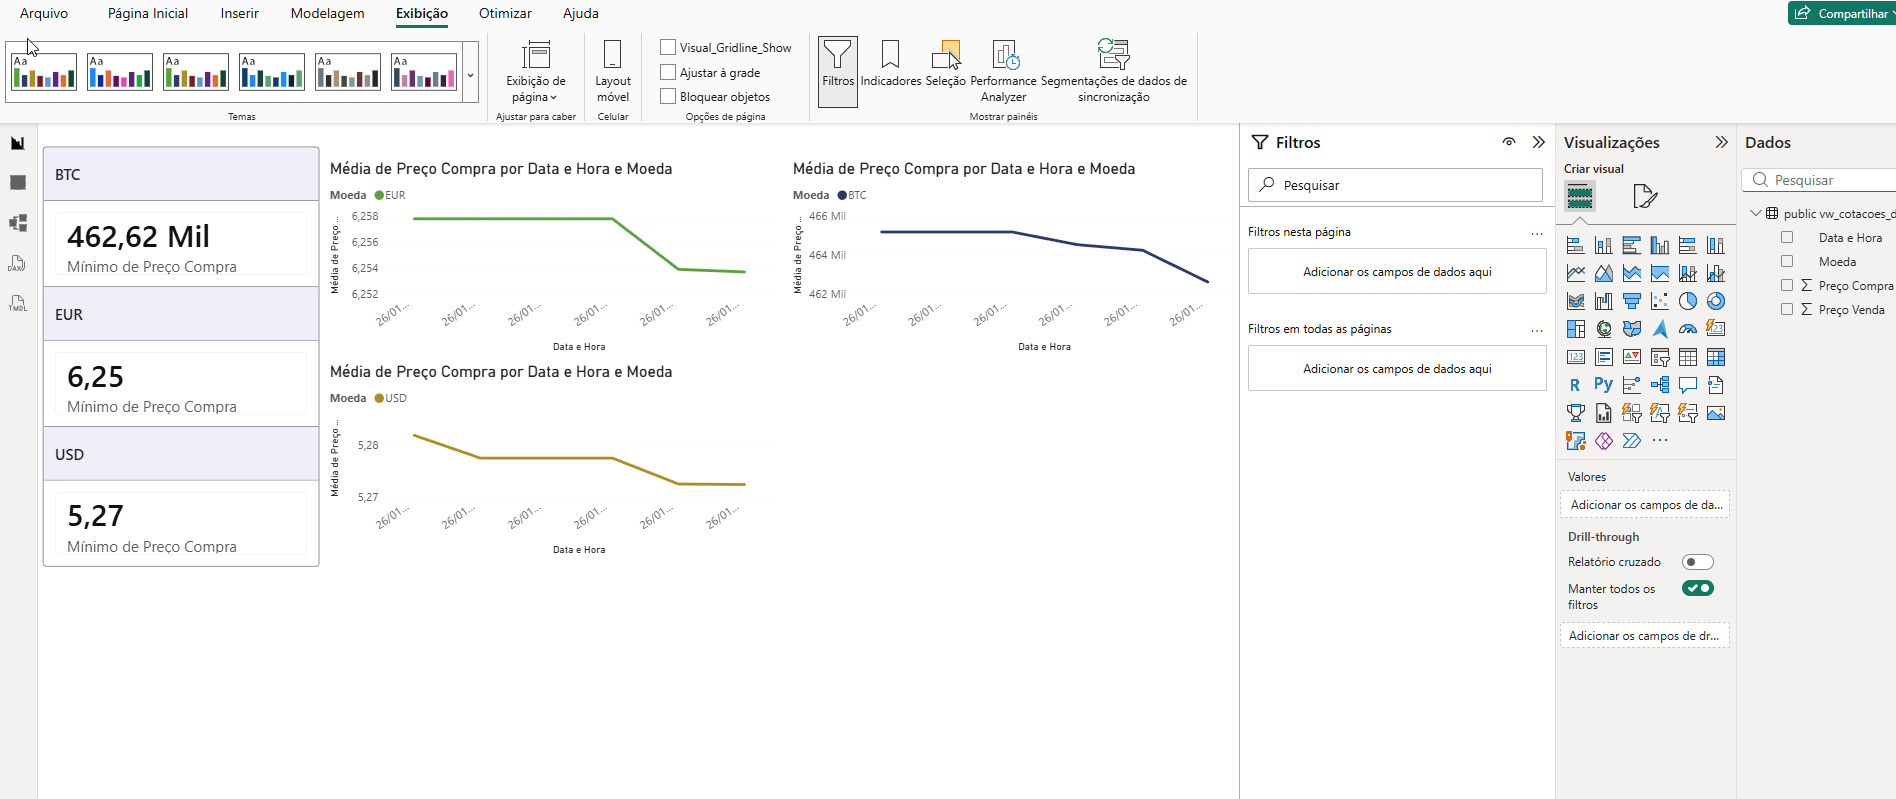

What the dashboard file says about the page in this screenshot:
{"tool":"powerbi","page":{"name":"Página 1","canvas":[1280,720],"ordinal":0},"visuals":[{"type":"cardVisual","fields":{"Rows":["public vw_cotacoes_diarias.Moeda"],"Data":["Min(public vw_cotacoes_diarias.Preço Compra)"]},"box":[0,0,305.6,499.4],"z":0},{"type":"lineChart","fields":{"Series":["public vw_cotacoes_diarias.Moeda"],"Category":["public vw_cotacoes_diarias.Data e Hora"],"Y":["Avg(public vw_cotacoes_diarias.Preço Compra)"]},"box":[305.6,38.3,480.3,210.8],"z":1000},{"type":"lineChart","fields":{"Series":["public vw_cotacoes_diarias.Moeda"],"Category":["public vw_cotacoes_diarias.Data e Hora"],"Y":["Avg(public vw_cotacoes_diarias.Preço Compra)"]},"box":[305.6,254.5,480.3,210.8],"z":2000},{"type":"lineChart","fields":{"Series":["public vw_cotacoes_diarias.Moeda"],"Category":["public vw_cotacoes_diarias.Data e Hora"],"Y":["Avg(public vw_cotacoes_diarias.Preço Compra)"]},"box":[799.7,38.3,480.3,210.8],"z":3000}]}

Visuals, with their boxes on the page's 1280x720 design canvas (x1, y1, x2, y2). These are canvas units, not pixel positions in the 1896x799 screenshot, which may show the page scaled, cropped or inside an application window:
cardVisual - public vw_cotacoes_diarias.Moeda x Min(public vw_cotacoes_diarias.Preço Compra): (0,0,306,499)
lineChart - public vw_cotacoes_diarias.Moeda x public vw_cotacoes_diarias.Data e Hora: (306,38,786,249)
lineChart - public vw_cotacoes_diarias.Moeda x public vw_cotacoes_diarias.Data e Hora: (306,254,786,465)
lineChart - public vw_cotacoes_diarias.Moeda x public vw_cotacoes_diarias.Data e Hora: (800,38,1280,249)
